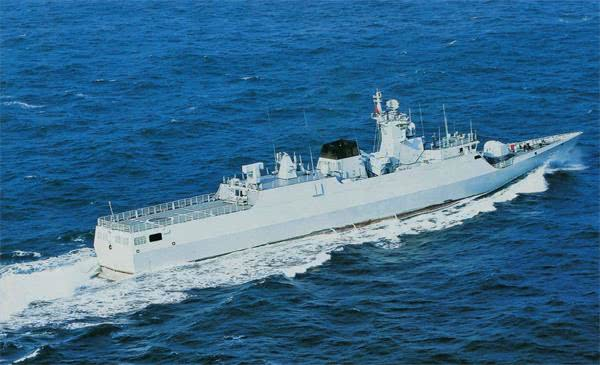warship: (87, 87, 586, 277)
